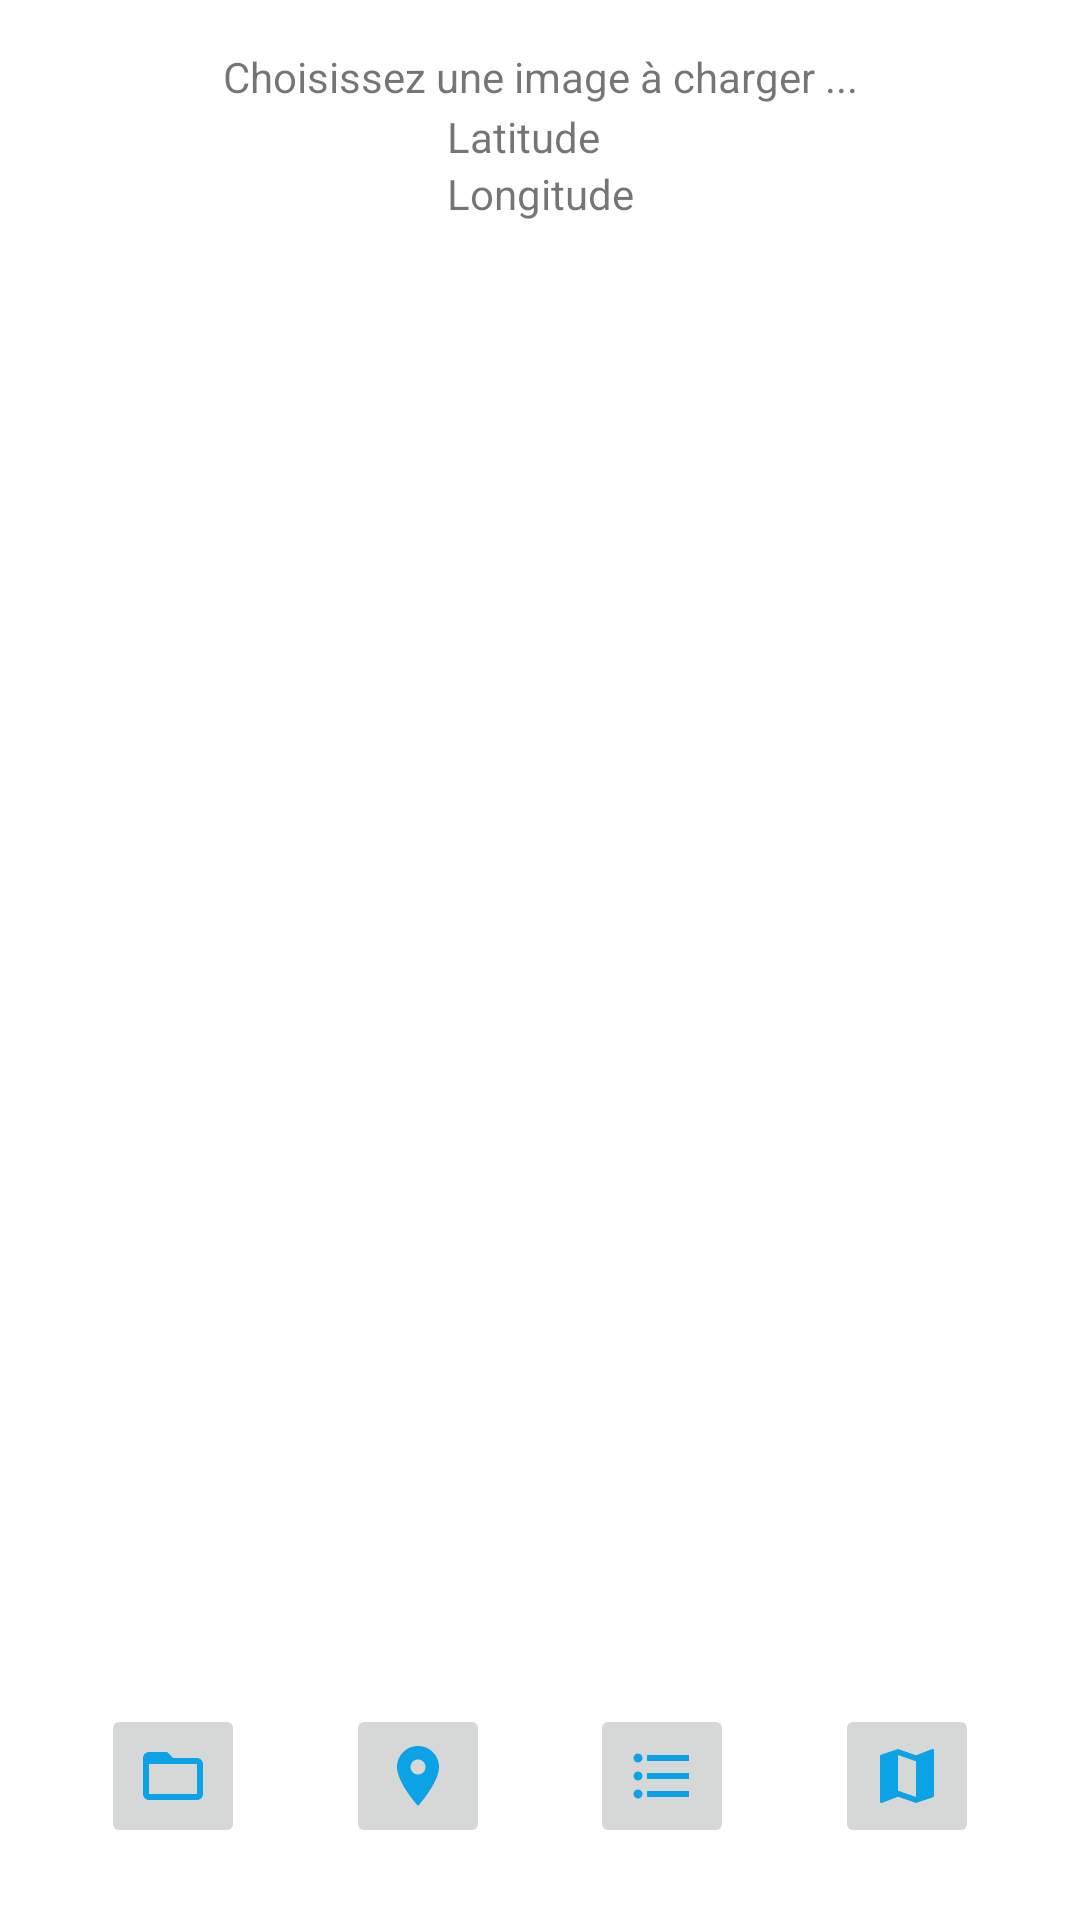

Where to tap for icons on this 1080w x 1920h app screen, as point (x, y):
folder open: point (173, 1776)
format list bulleted: point (662, 1776)
location on: point (418, 1776)
map: point (907, 1776)
